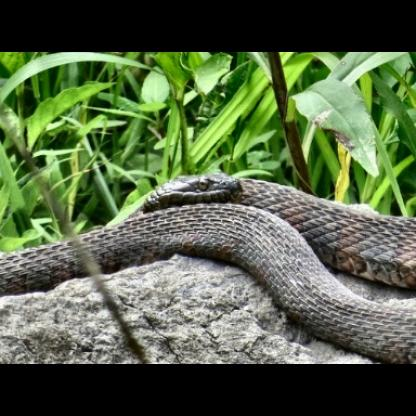Snake: (9, 162, 416, 374)
